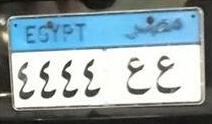4: (14, 59, 36, 103), (80, 57, 102, 99), (37, 58, 57, 102), (59, 57, 79, 100)
ain: (122, 53, 151, 98), (153, 54, 183, 96)
